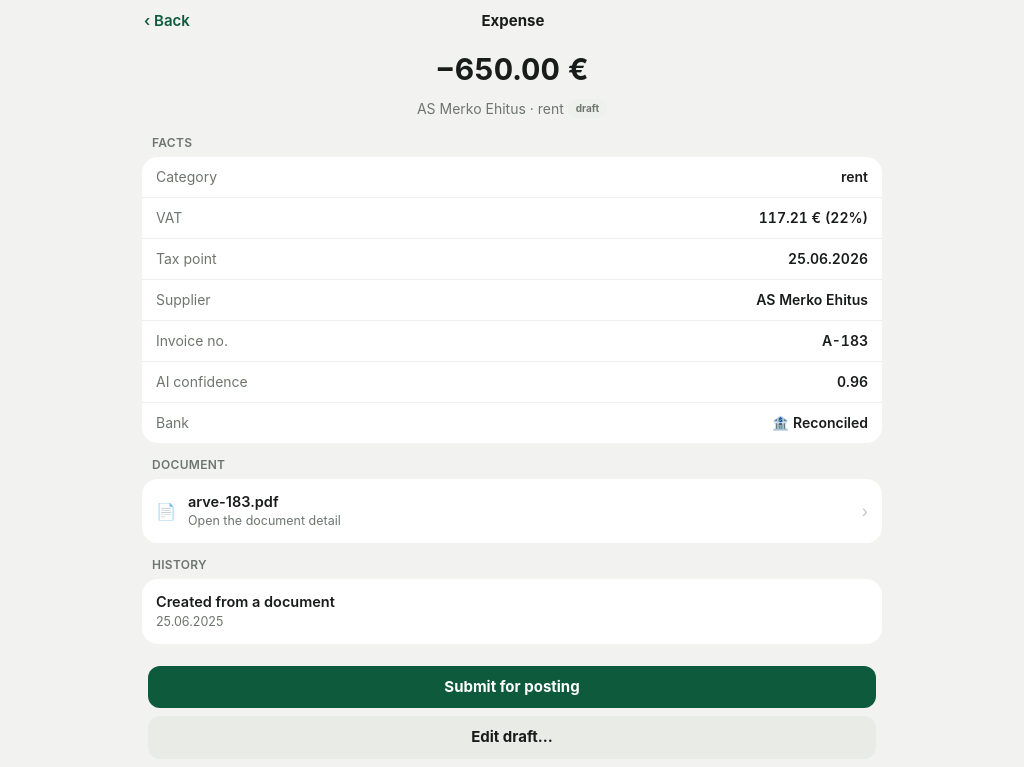
ExpenseScreen › auto-post success renders the POSTED toast (a posted-rendered-as-held regression must fail this)
Click the button "Submit for posting".
click(512, 687)  # box [148, 666, 876, 708]
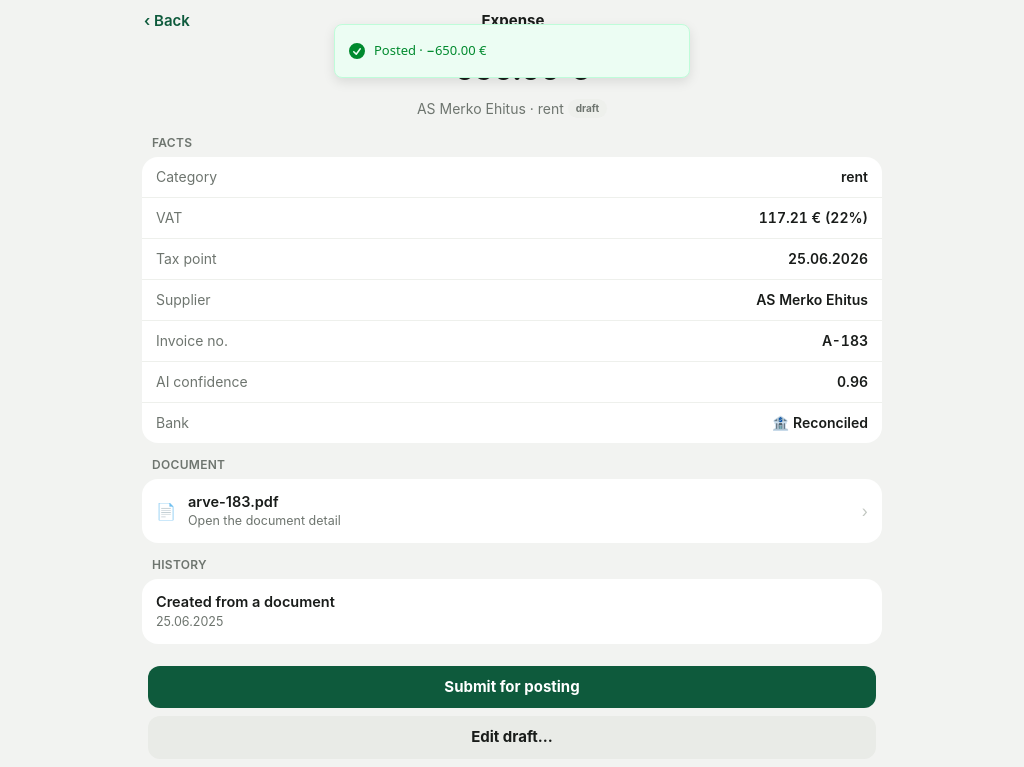
Expected: the text "Posted · −650.00 €" is shown, [374, 41, 486, 60]
